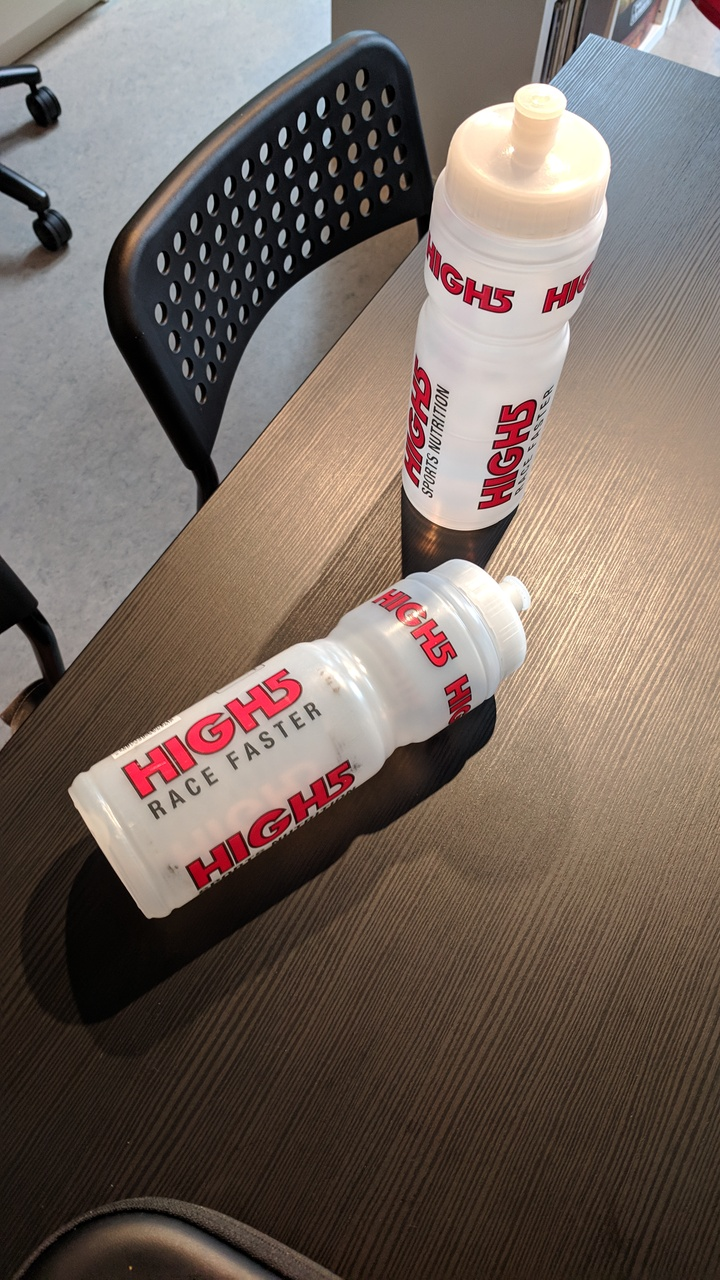high five bottle: (62, 556, 538, 931), (385, 83, 616, 536)
